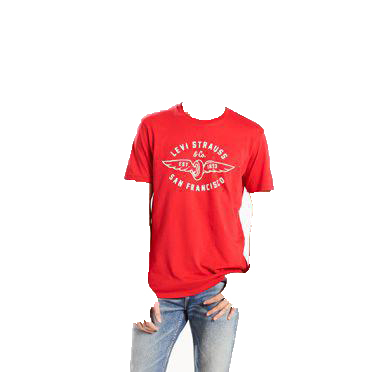teeshirt: (125, 101, 276, 298)
